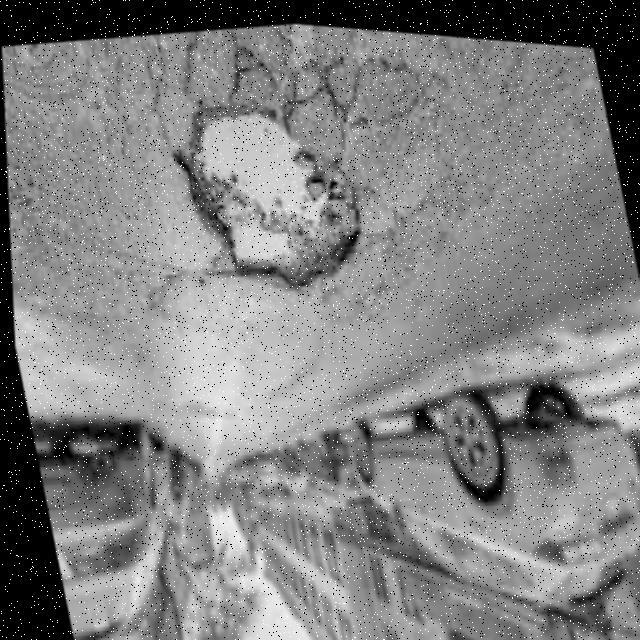pothole: (154, 65, 382, 318)
